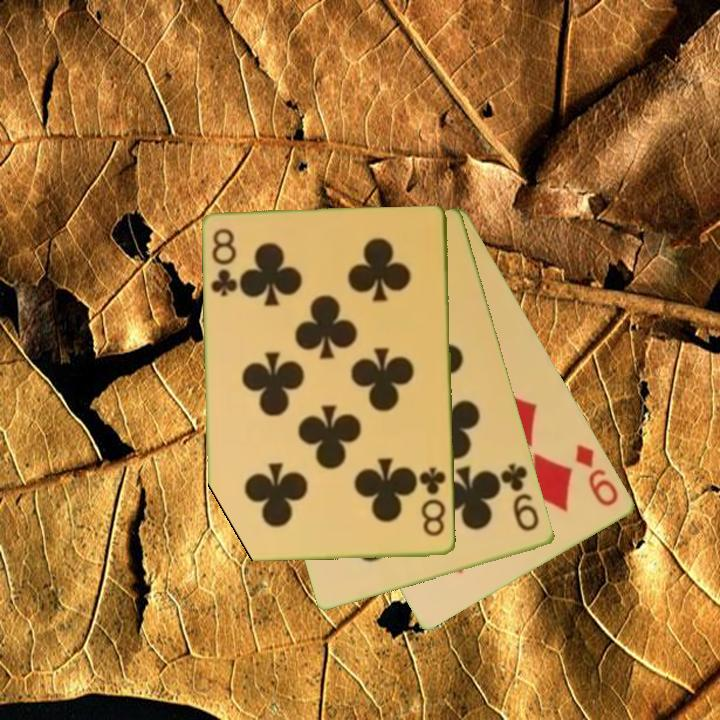8c: (416, 464, 449, 540), (208, 225, 240, 300)
9c: (497, 460, 543, 535)
9d: (572, 440, 622, 510)
